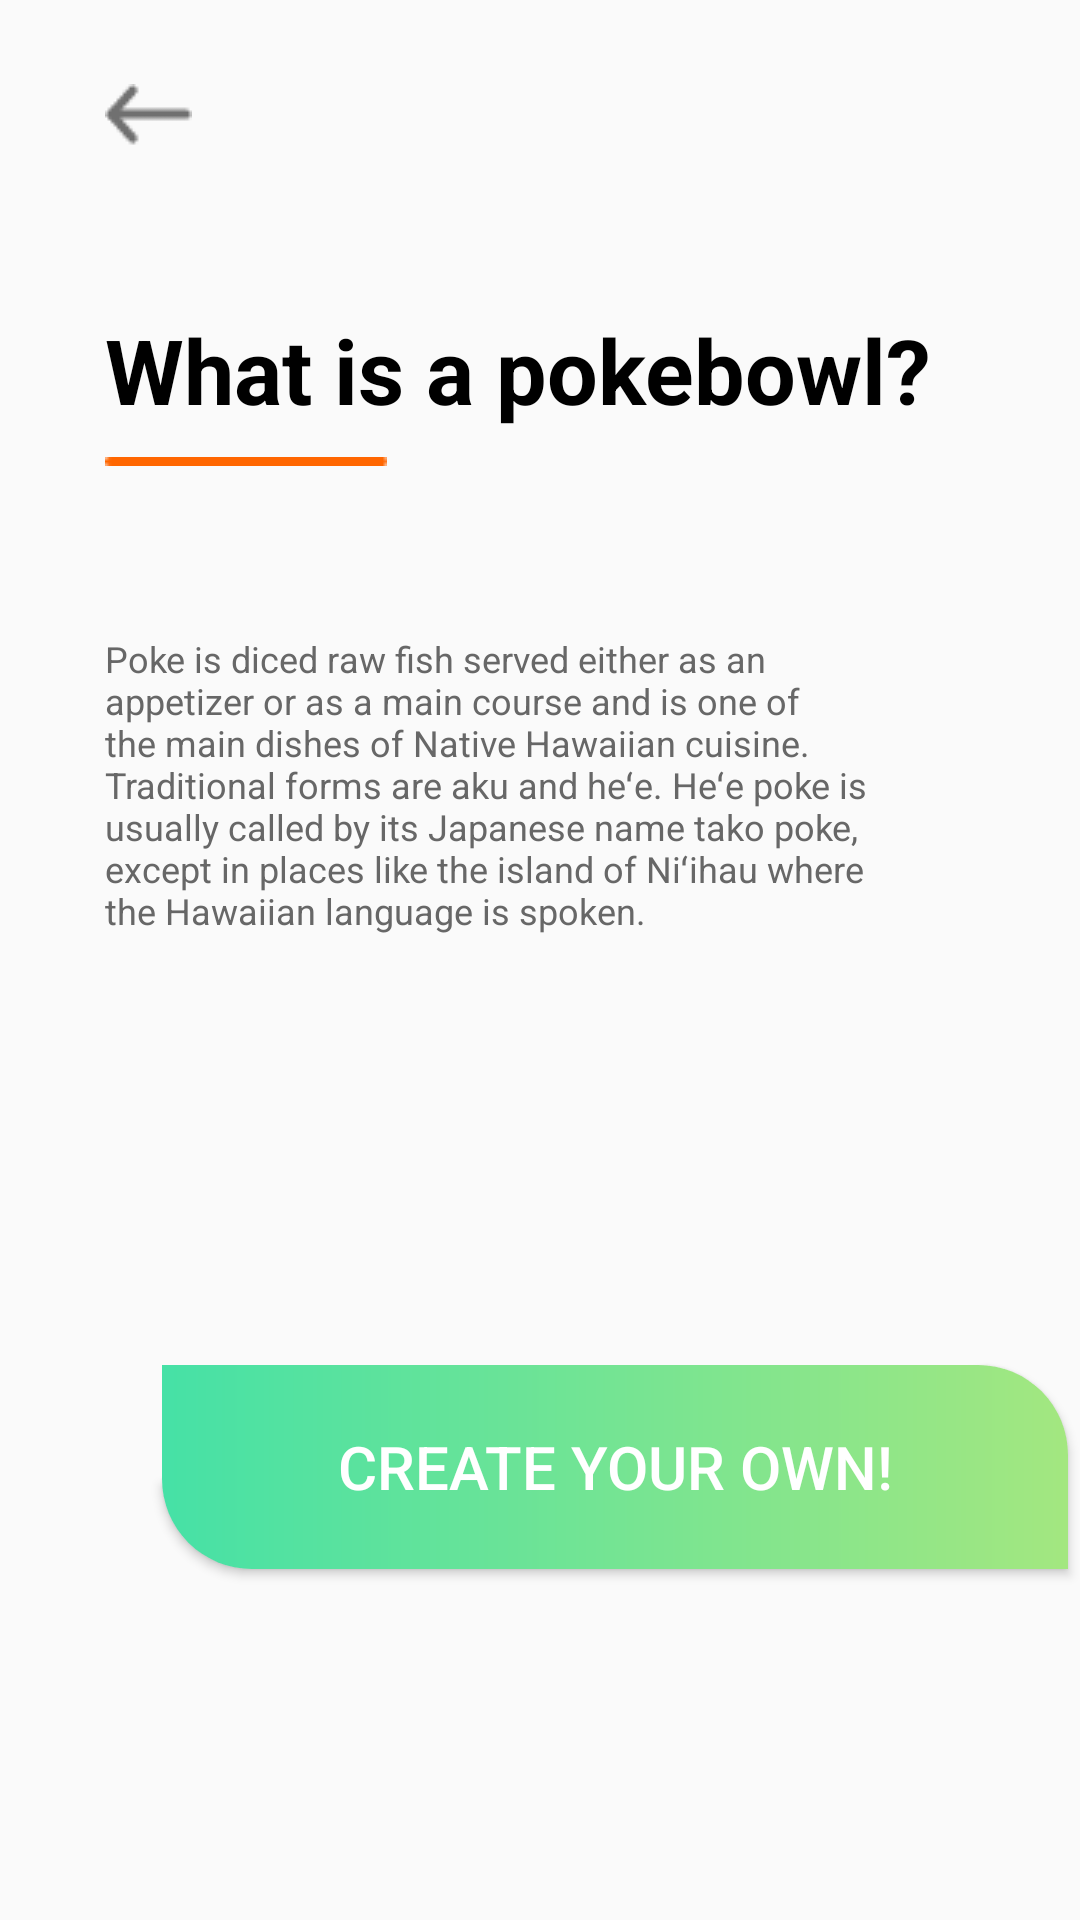

Icons on this 1080w x 1920h Android screen, each with its box as (x1, y1, x2, y2):
Arrow: (105, 84, 192, 145)
